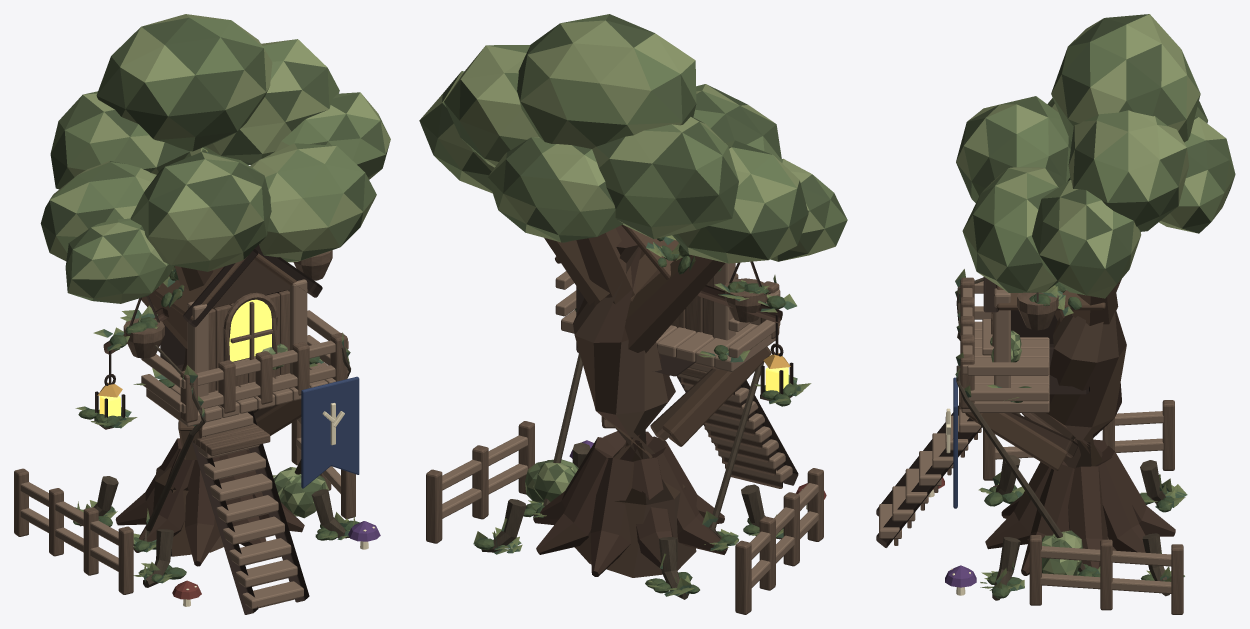
File: tree_house.glb
3 renders of one model, left to right at view 1: azimuth 30°, elevation 25°; view 2: azimuth 150°, elevation 25°; view 3: azimuth 270°, elevation 25°, orthographic. The views are drawn at different scales.
Parts seen in each view (by area): view 1: Faceted broadleaf crown.002, Faceted broadleaf crown.006, Faceted broadleaf crown.005, Faceted broadleaf crown.003, Faceted broadleaf crown.001, Faceted broadleaf crown.007, Faceted broadleaf crown, Blue treehouse banner, Faceted broadleaf crown.004, Spreading tree root.005, Warm arched window, Spreading tree root.004 (+51 smaller); view 2: Faceted broadleaf crown.002, Ancient hollow tree, Faceted broadleaf crown.001, Faceted broadleaf crown.008, Faceted broadleaf crown, Faceted broadleaf crown.003, Twisting canopy branch, Spreading tree root.002, Faceted broadleaf crown.006, Faceted broadleaf crown.004, Faceted broadleaf crown.007, Treehouse deep balcony bracket (+36 smaller); view 3: Faceted broadleaf crown.002, Faceted broadleaf crown.003, Faceted broadleaf crown.004, Faceted broadleaf crown.005, Ancient hollow tree, Faceted broadleaf crown.006, Faceted broadleaf crown.008, Spreading tree root, Spreading tree root.001, Treehouse deep balcony bracket.001, Spreading tree root.007, Spreading tree root.006 (+34 smaller).
Boxes of the visible parts, left/top/right/bottom form: Faceted broadleaf crown.002: left=96, top=14, right=272, bottom=151; Faceted broadleaf crown.006: left=130, top=152, right=271, bottom=271; Faceted broadleaf crown.005: left=250, top=143, right=376, bottom=262; Faceted broadleaf crown.003: left=203, top=39, right=339, bottom=164; Faceted broadleaf crown.001: left=50, top=91, right=201, bottom=189; Faceted broadleaf crown.007: left=65, top=218, right=173, bottom=303; Faceted broadleaf crown: left=40, top=161, right=156, bottom=260; Blue treehouse banner: left=301, top=376, right=359, bottom=488; Faceted broadleaf crown.004: left=270, top=92, right=390, bottom=179; Spreading tree root.005: left=185, top=456, right=220, bottom=566; Warm arched window: left=229, top=299, right=271, bottom=361; Spreading tree root.004: left=133, top=448, right=194, bottom=552; Faceted broadleaf crown.002: left=517, top=14, right=696, bottom=148; Ancient hollow tree: left=573, top=225, right=696, bottom=577; Faceted broadleaf crown.001: left=592, top=117, right=738, bottom=239; Faceted broadleaf crown.008: left=487, top=137, right=623, bottom=242; Faceted broadleaf crown: left=672, top=140, right=808, bottom=263; Faceted broadleaf crown.003: left=444, top=45, right=538, bottom=167; Twisting canopy branch: left=624, top=255, right=724, bottom=353; Spreading tree root.002: left=590, top=458, right=633, bottom=576; Faceted broadleaf crown.006: left=693, top=84, right=781, bottom=159; Faceted broadleaf crown.004: left=419, top=71, right=494, bottom=193; Faceted broadleaf crown.007: left=770, top=158, right=847, bottom=261; Treehouse deep balcony bracket: left=662, top=346, right=771, bottom=446; Faceted broadleaf crown.002: left=1051, top=14, right=1200, bottom=142; Faceted broadleaf crown.003: left=1068, top=110, right=1188, bottom=231; Faceted broadleaf crown.004: left=1032, top=179, right=1141, bottom=298; Faceted broadleaf crown.005: left=962, top=167, right=1065, bottom=292; Ancient hollow tree: left=1027, top=310, right=1126, bottom=550; Faceted broadleaf crown.006: left=956, top=96, right=1071, bottom=202; Faceted broadleaf crown.008: left=1159, top=116, right=1235, bottom=233; Spreading tree root: left=1068, top=466, right=1107, bottom=568; Spreading tree root.001: left=1095, top=457, right=1145, bottom=552; Treehouse deep balcony bracket.001: left=965, top=413, right=1067, bottom=470; Spreading tree root.007: left=1021, top=464, right=1074, bottom=575; Spreading tree root.006: left=985, top=461, right=1067, bottom=549.
Size of the model in its own units: 4.5 by 6.18 by 3.78.
Materials: 20 (5 with a texture image).
